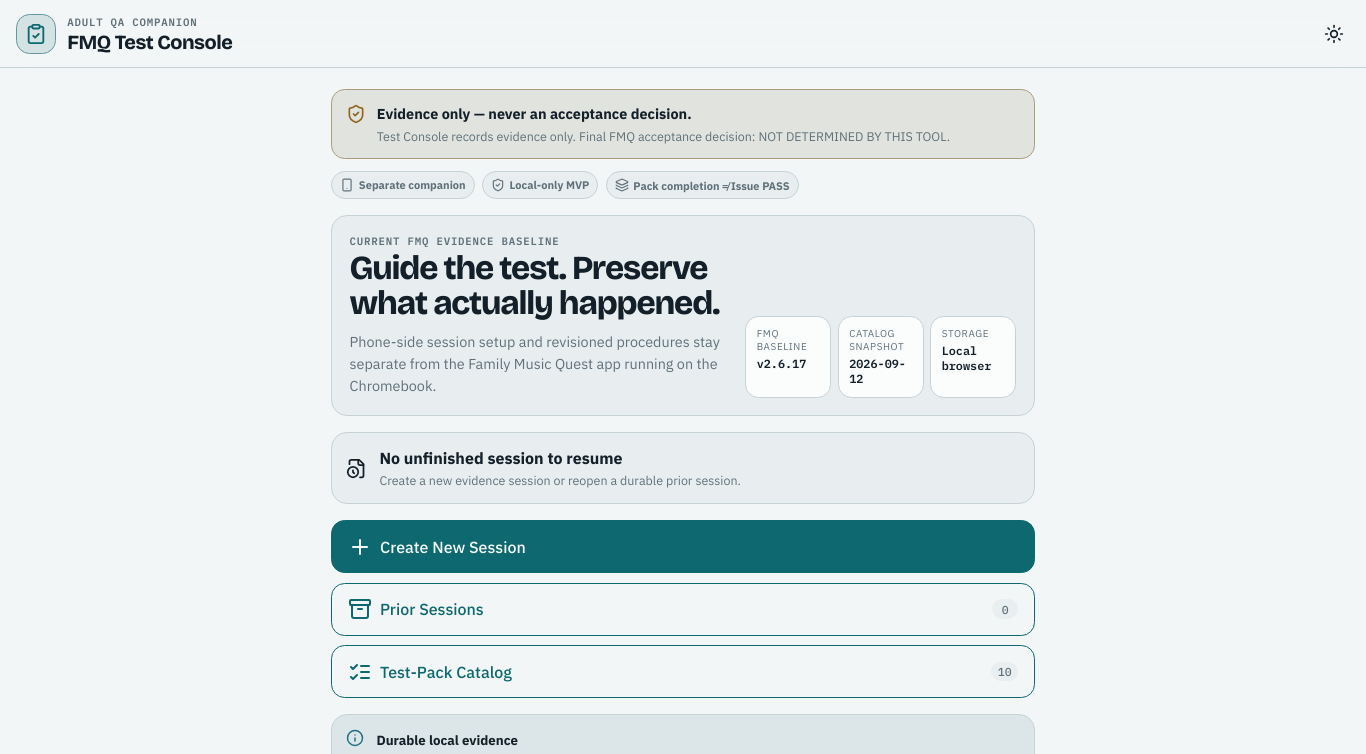
Test: FMQ Test Console session shell › shows durable sessions in Prior Sessions without implying Issue PASS
Step 1. Click the button "Create New Session" → (453,547), box [331,520,1035,573]
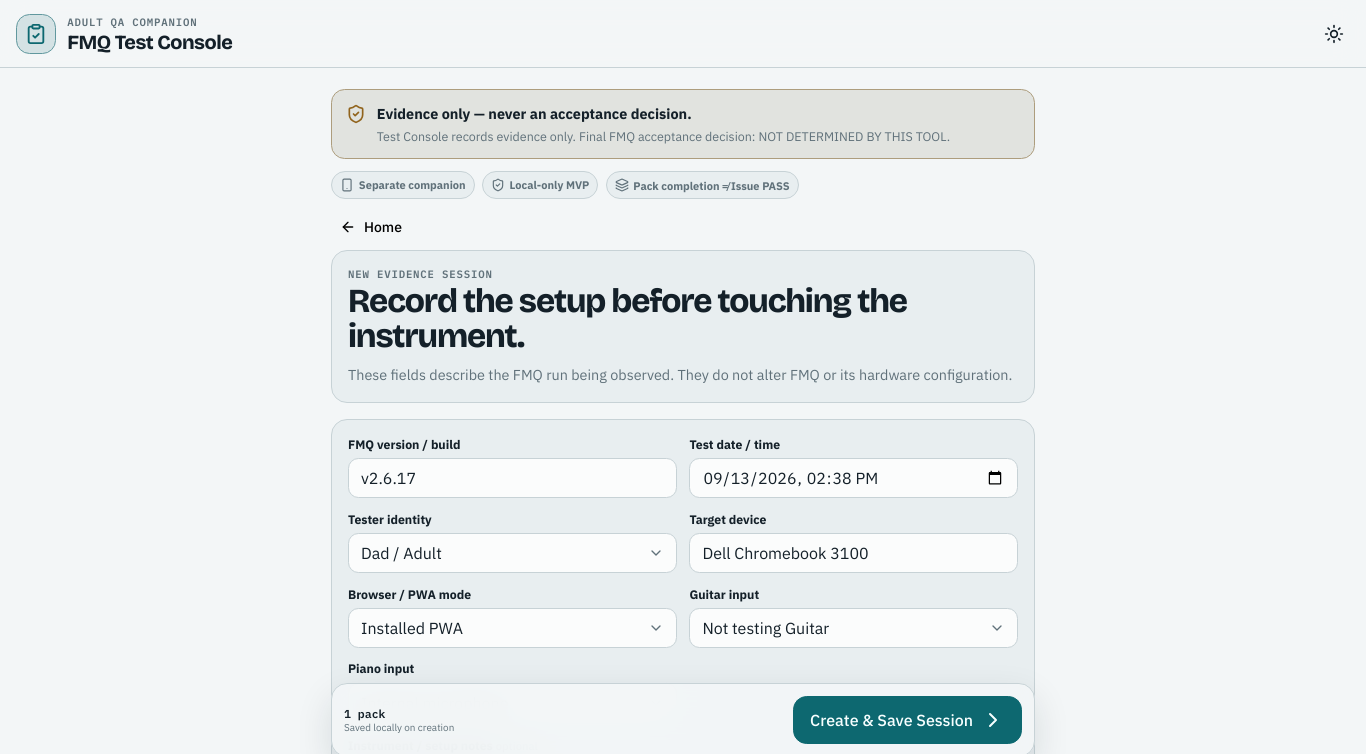
Step 2. Click the button "Create & Save Session" → (908,720), box [793,696,1022,744]
(page scrolled)
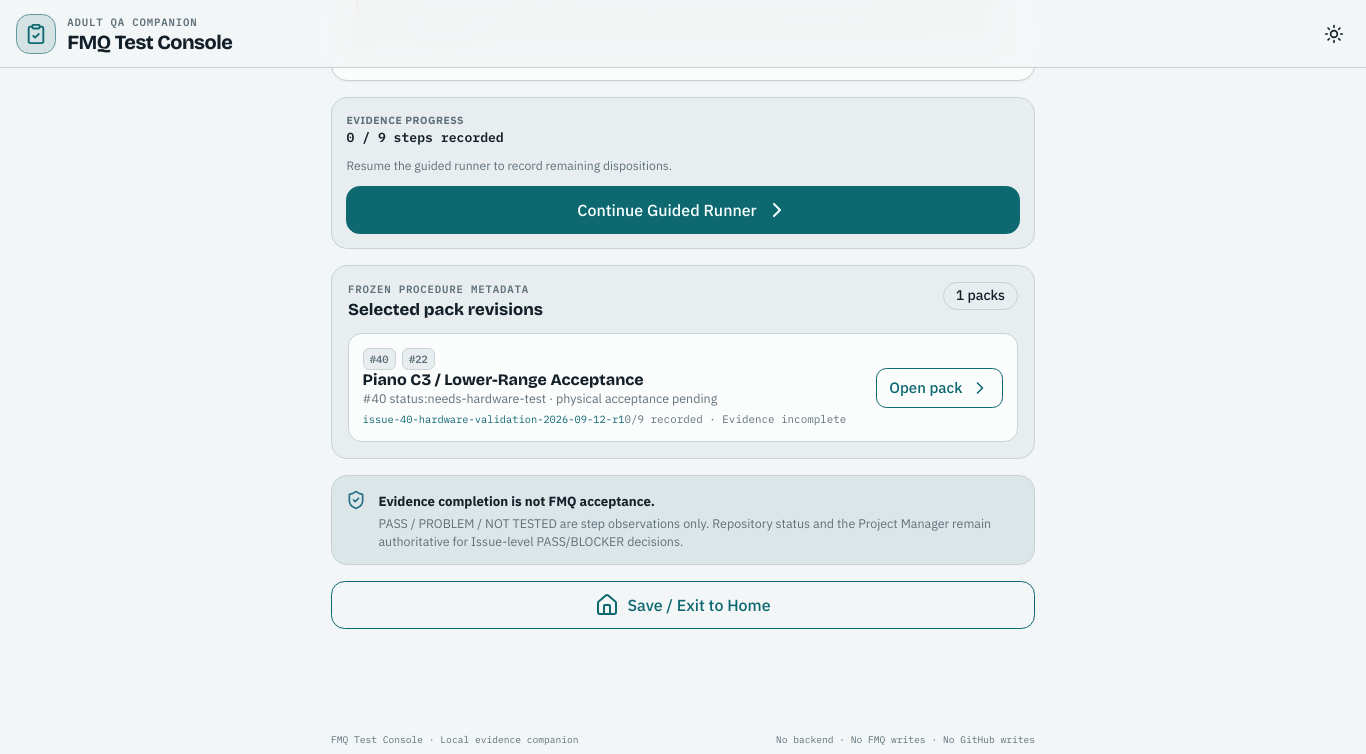
Step 3. Click the button "Save / Exit to Home" → (683,605), box [331,581,1035,629]
(page scrolled)
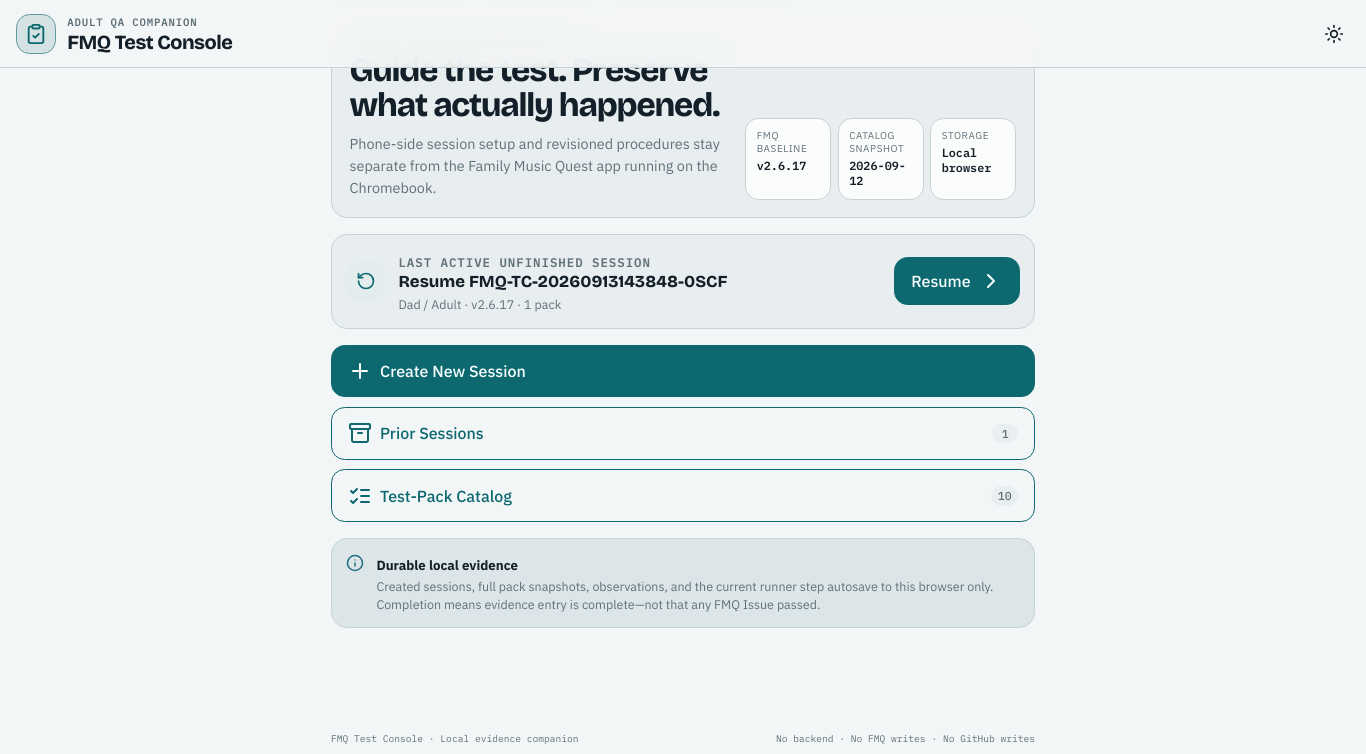
Step 4. Click the button "Prior Sessions 1" → (432,433), box [331,407,1035,460]
(page scrolled)
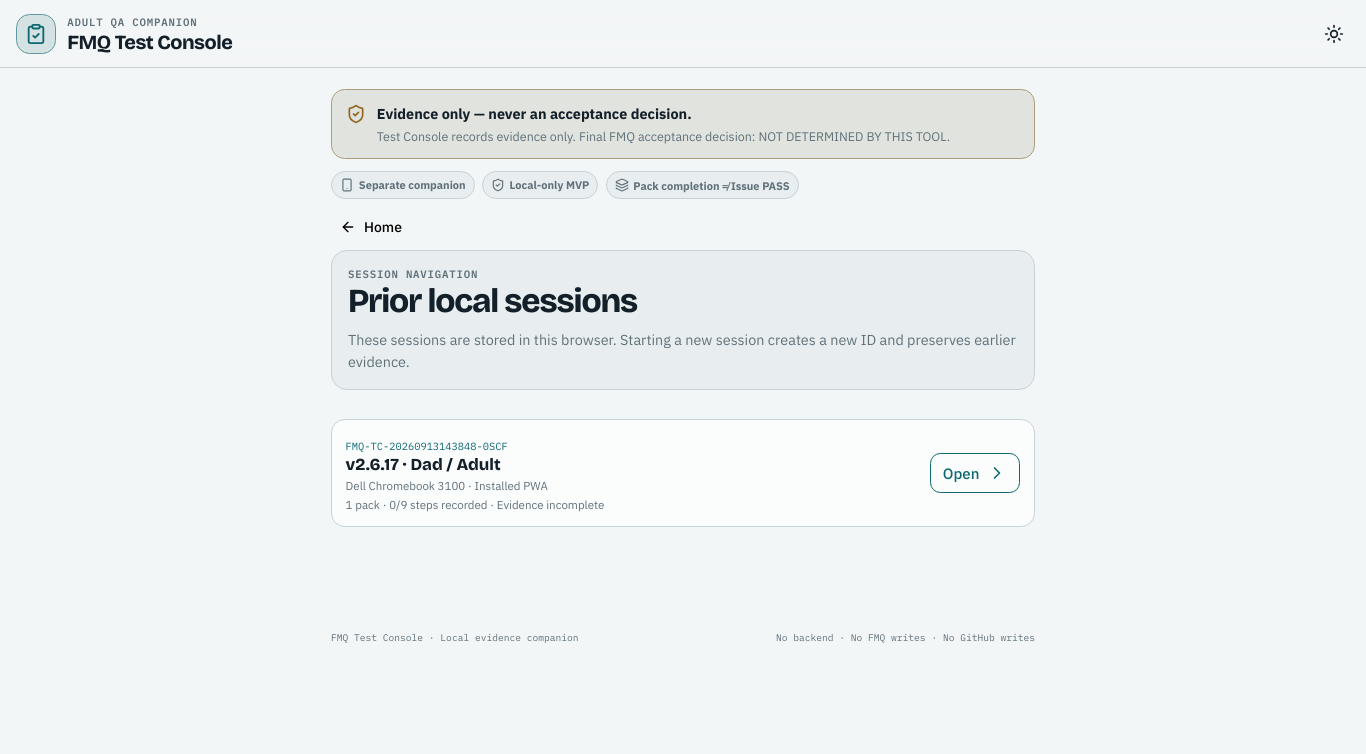
Expected: the text "Pack completion ≠ Issue PASS" is shown, [606,171,799,200]
Expected: the heading "Prior local sessions" is shown, [348,281,637,321]
Expected: the text "1 pack · 0/9 steps recorded · Evidence incomplete" is shown, [346,497,604,512]
